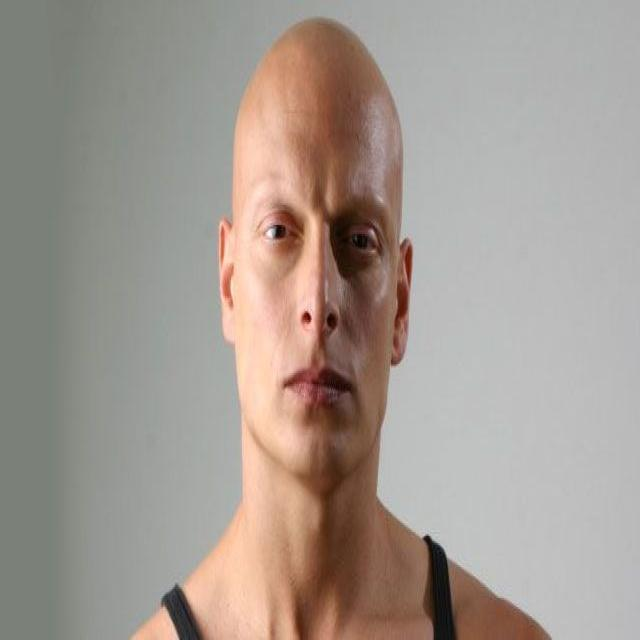no_helmet: (214, 10, 421, 237)
